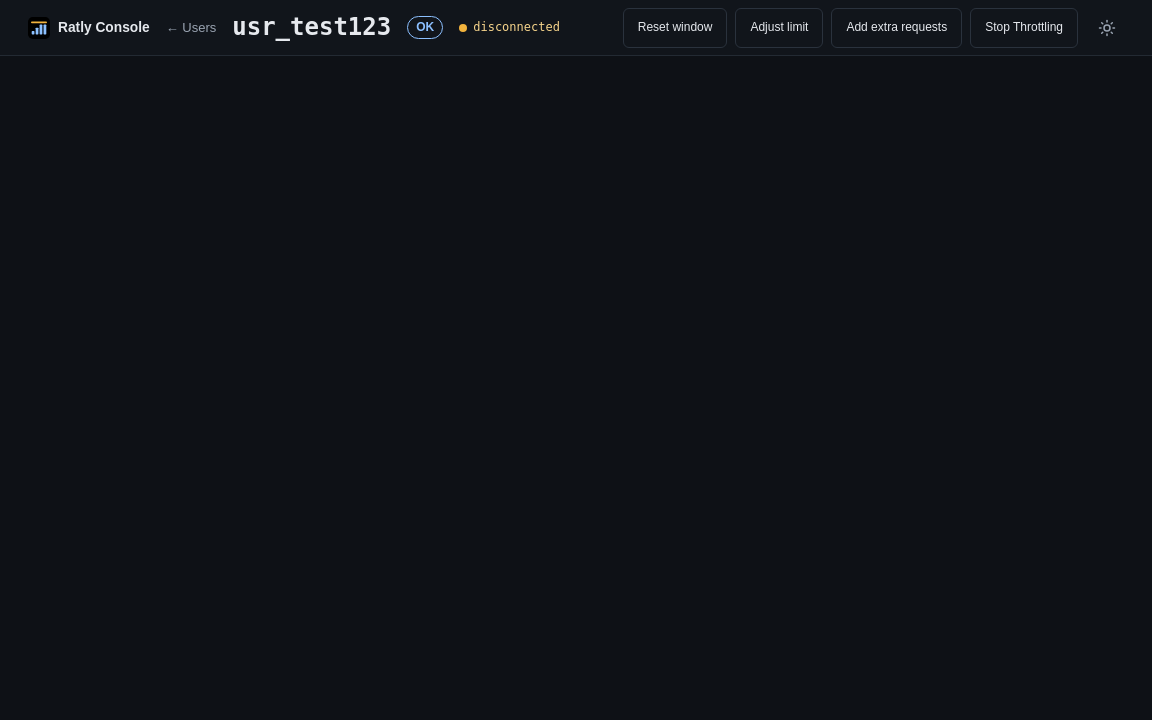
Test: UserDetailHeader › opens AddExtraRequestsModal when Add extra requests button clicked
Click the button "Add extra requests" at (897, 28), box [831,8,962,48]
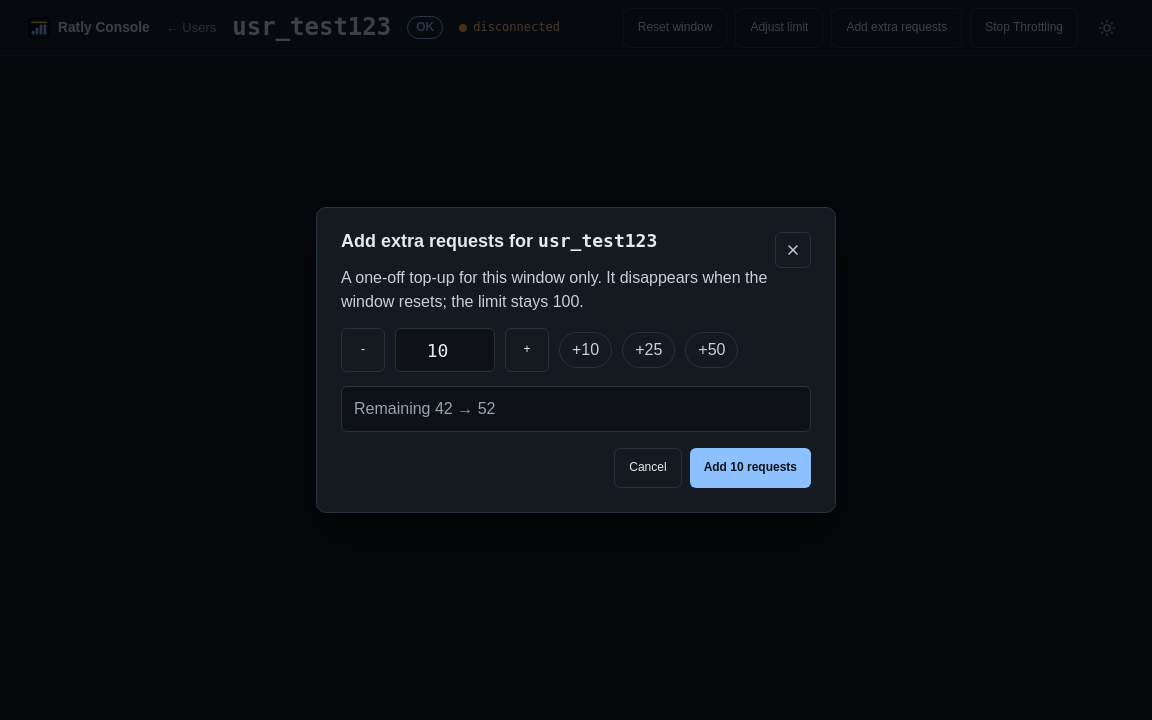
Now the heading with test id "modal-title" shows "Add extra requests for", box [341,231,533,251]
